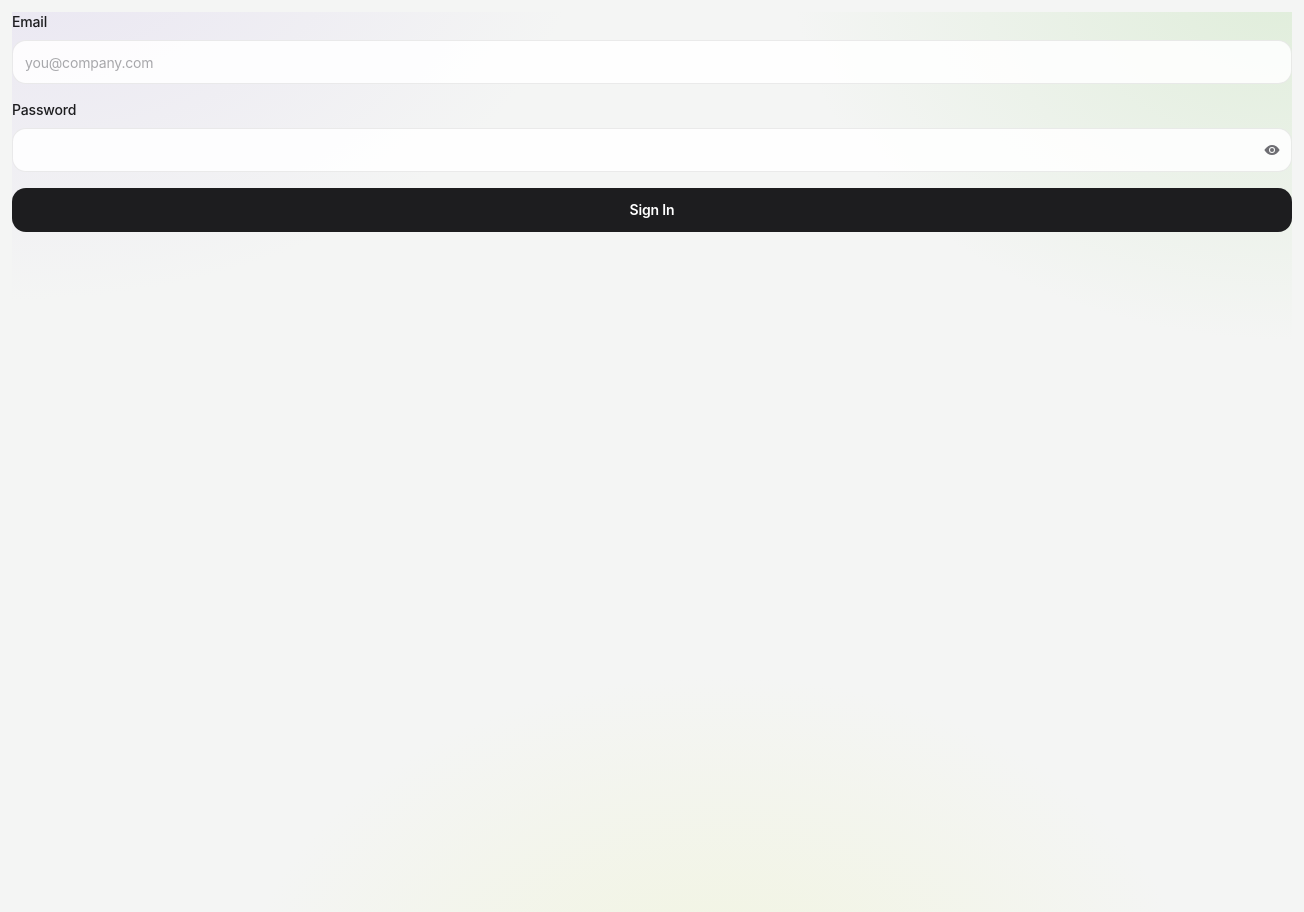
Scenario: LoginForm › rejects a password shorter than 6 characters
Type "a@b.com" into the field labelled "Email" at (652, 62), box [12,40,1292,84]
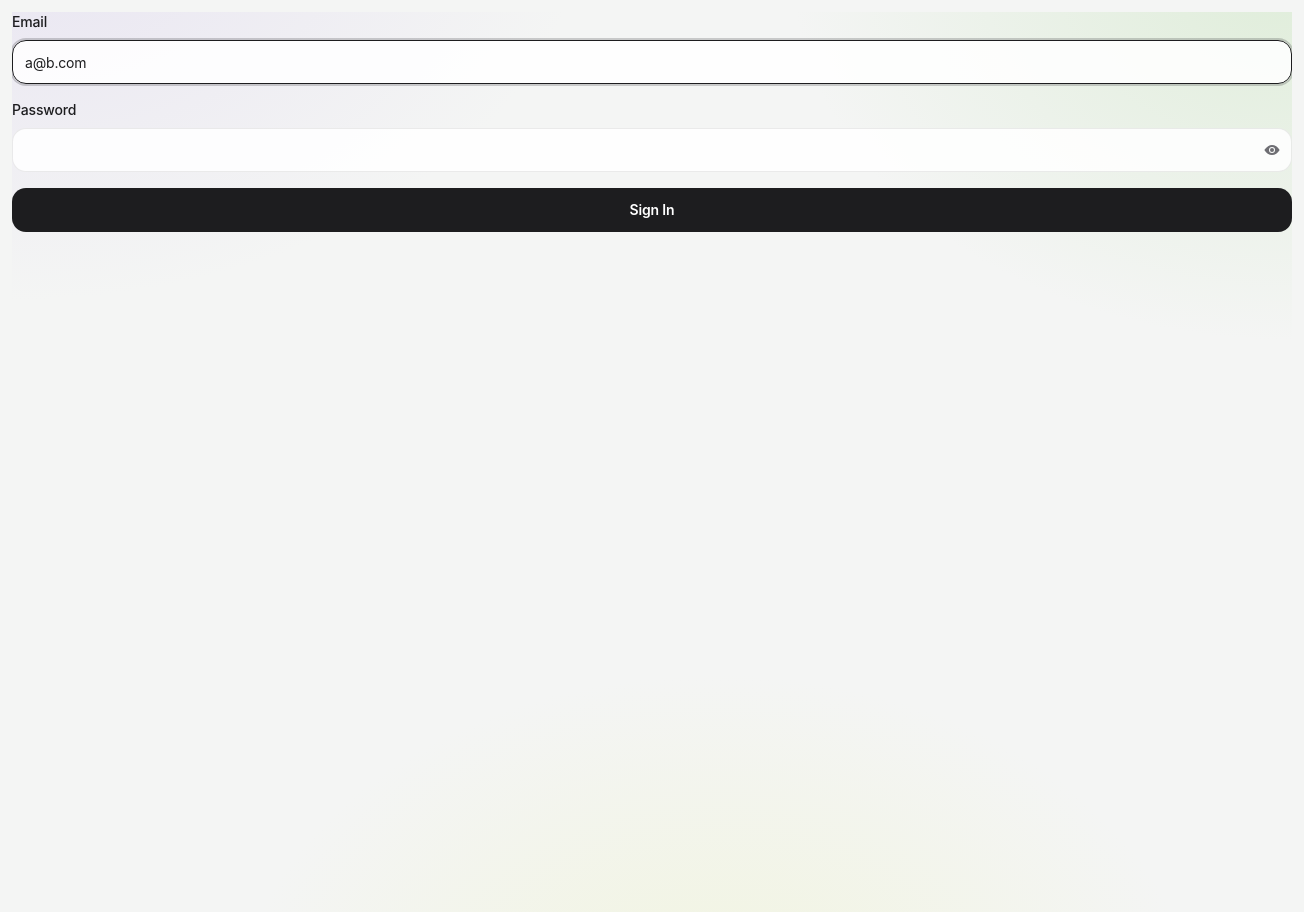
Type "123" into the password field labelled "Password" at (652, 150), box [12,128,1292,172]
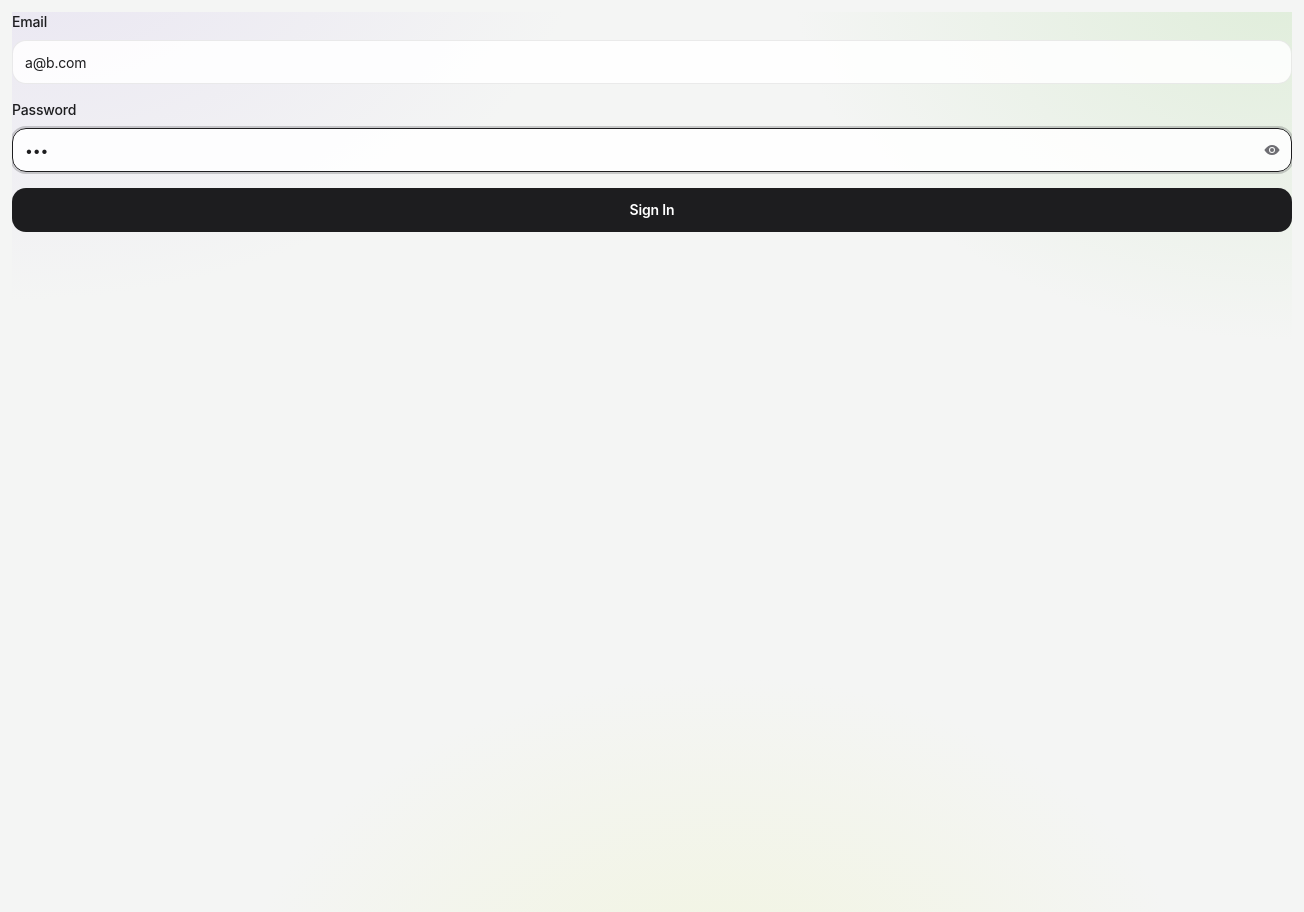
Click the button "Sign In" at (652, 210), box [12,188,1292,232]
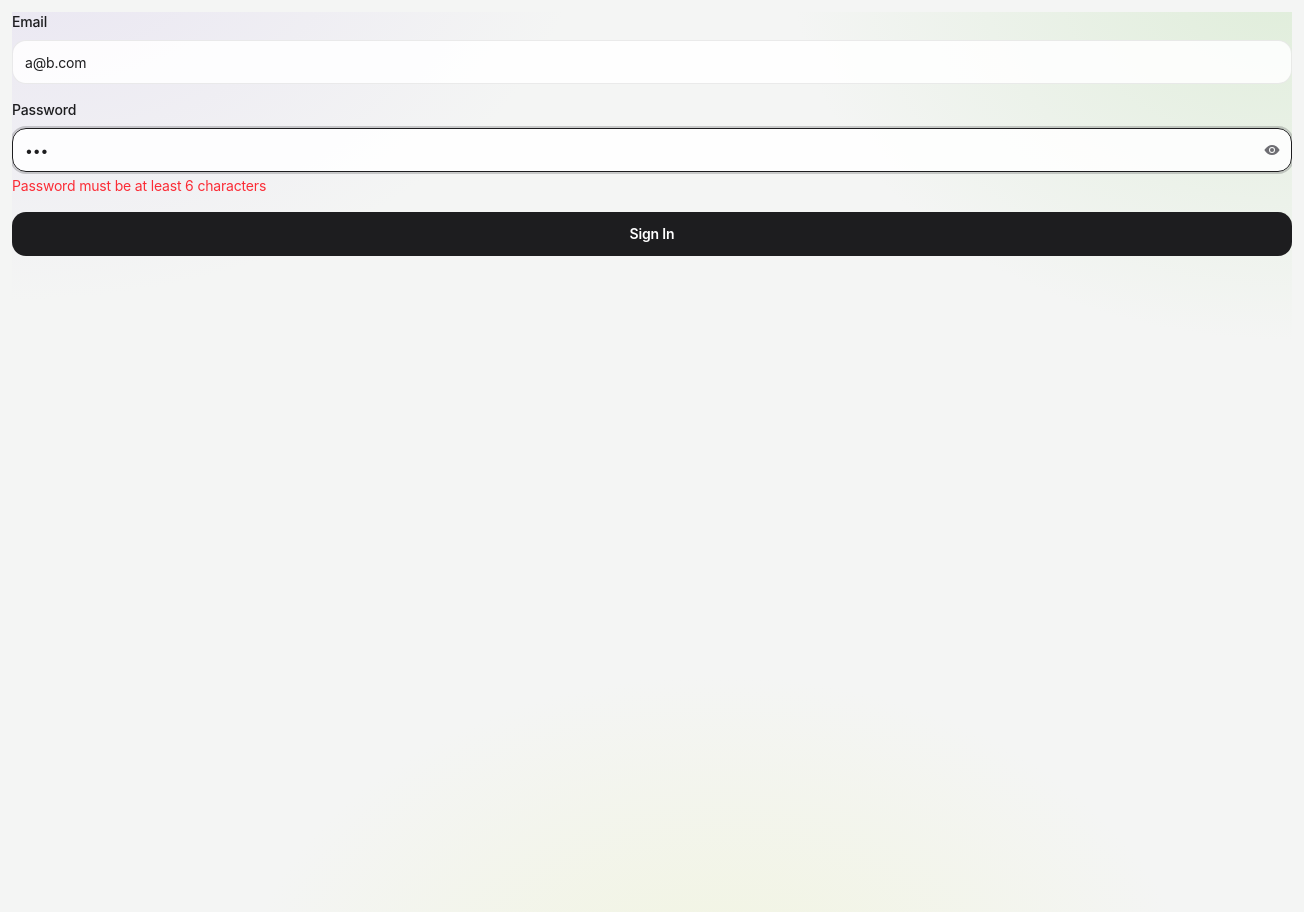
Check: the text "Password must be at least 6 characters" is shown, box [12,177,266,194]
